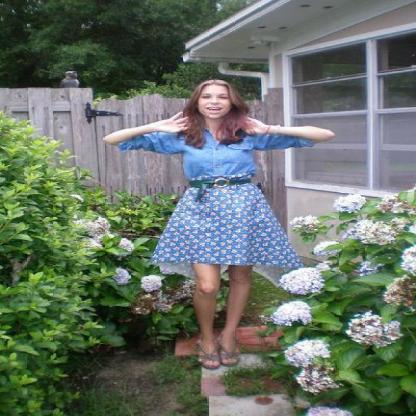shirt: (119, 128, 306, 180)
shoe: (199, 344, 234, 365)
skirt: (147, 183, 311, 278)
